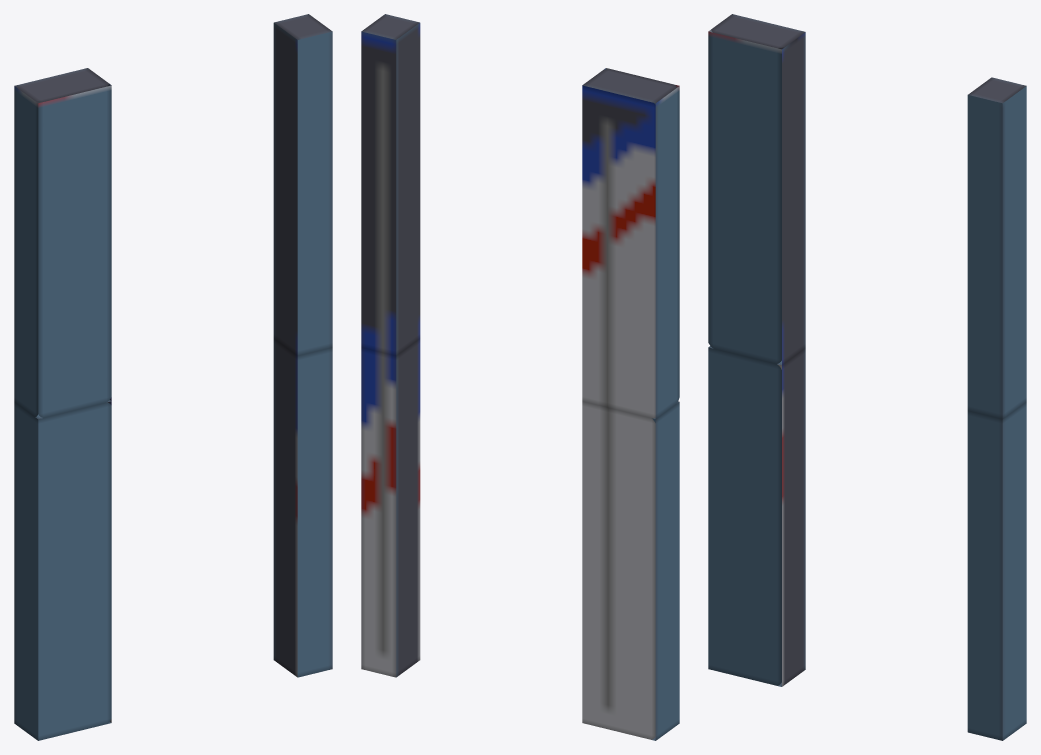
The model's file is frame_door_cabin_df11g_left.obj.
3 views of the same model, side by side, from view 1: azimuth 30°, elevation 25°; view 2: azimuth 150°, elevation 25°; view 3: azimuth 330°, elevation 25° (orthographic).
Parts seen in each view (by area): view 1: cube; view 2: cube; view 3: cube.
Boxes of the visible parts, x1,y1,x2,y2 form: cube: [14, 14, 332, 740]; cube: [361, 14, 679, 740]; cube: [708, 14, 1026, 740].
Size of the model in its own units: 1 by 2.07 by 0.1406.
